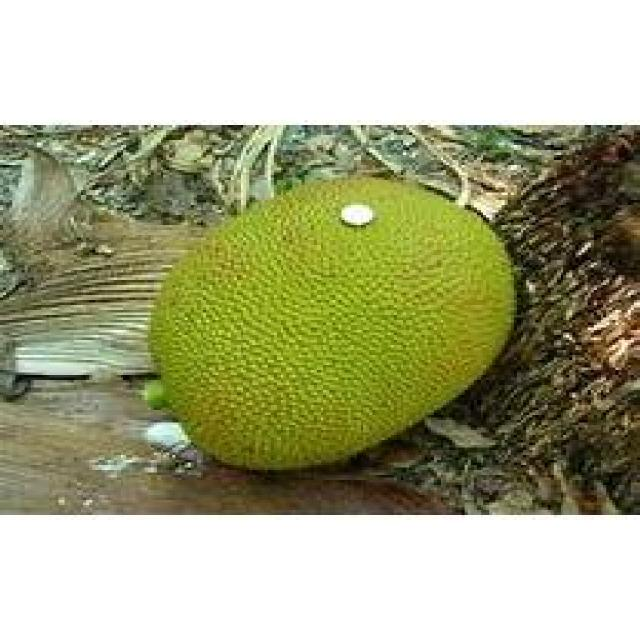Fruit: (130, 160, 536, 490)
